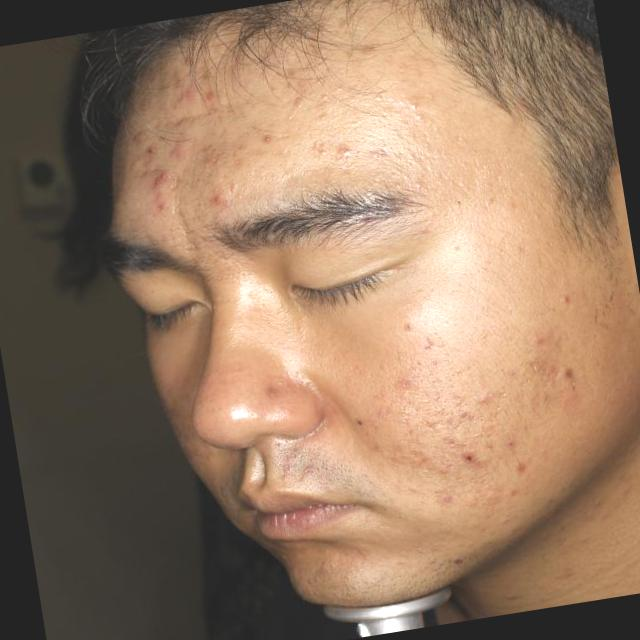acne: (453, 446, 488, 478), (169, 142, 198, 170), (504, 451, 528, 482), (470, 388, 498, 414), (150, 170, 180, 192), (203, 92, 227, 118), (150, 193, 172, 218), (139, 142, 162, 163), (204, 192, 234, 206), (134, 92, 154, 110), (182, 82, 198, 98)
